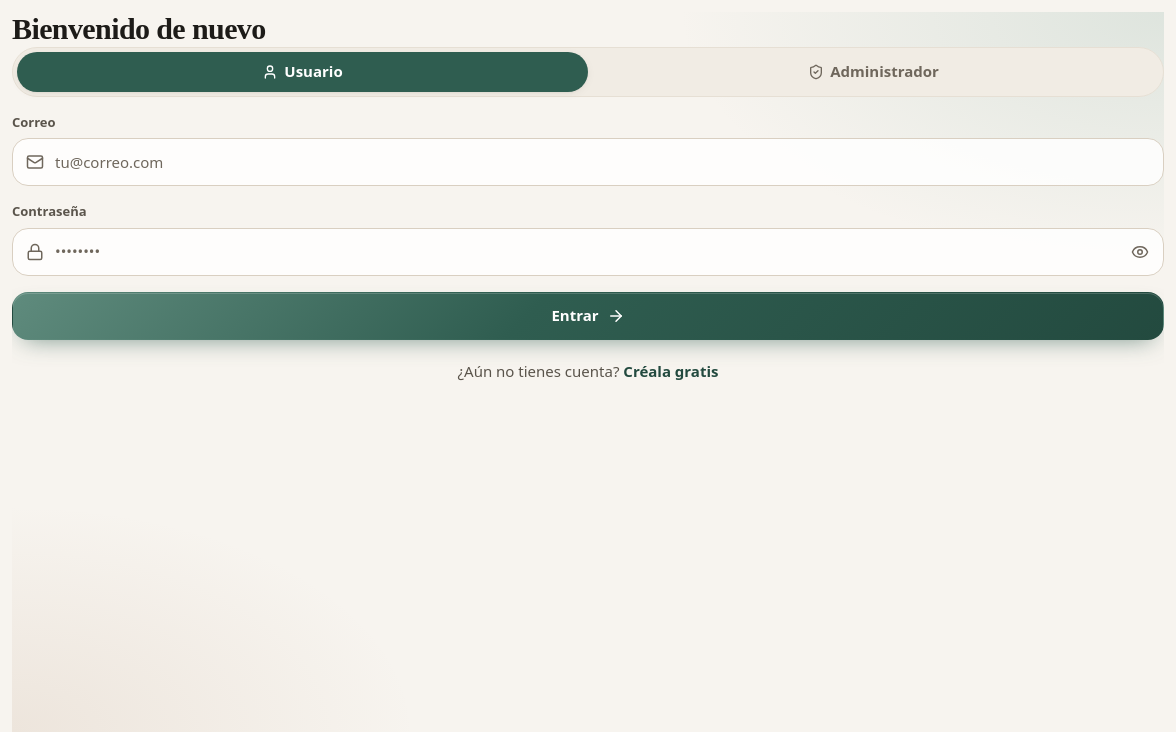
Scenario: Login page › validates the fields before calling the server
Click the button "Entrar": (588, 316) [12,292,1164,340]
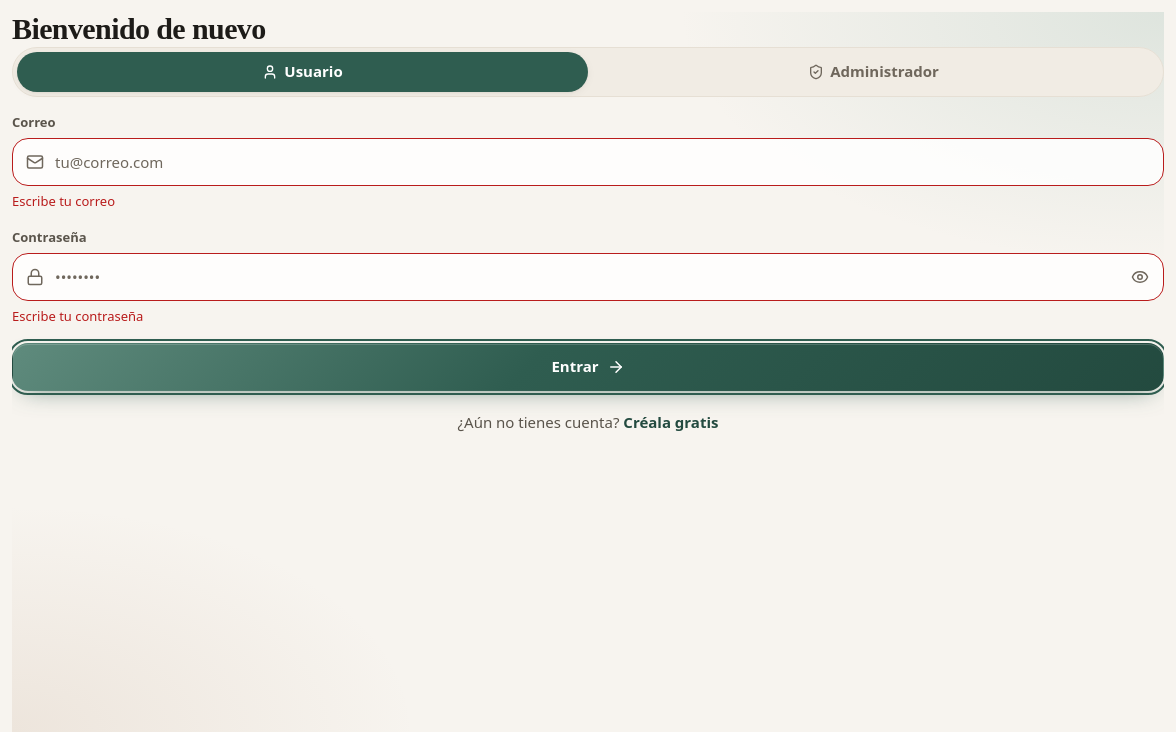
Check: the text "Escribe tu correo" is shown, box [12,192,115,210]
Check: the text "Escribe tu contraseña" is shown, box [12,307,143,325]
